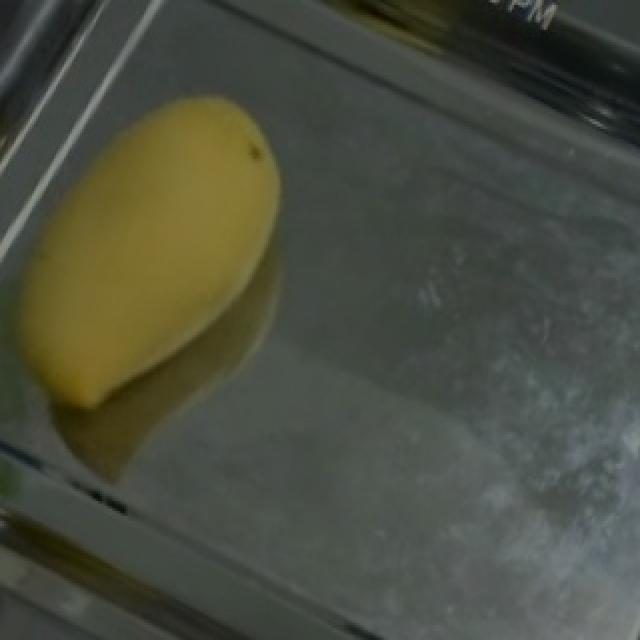fruit: (0, 40, 366, 439)
